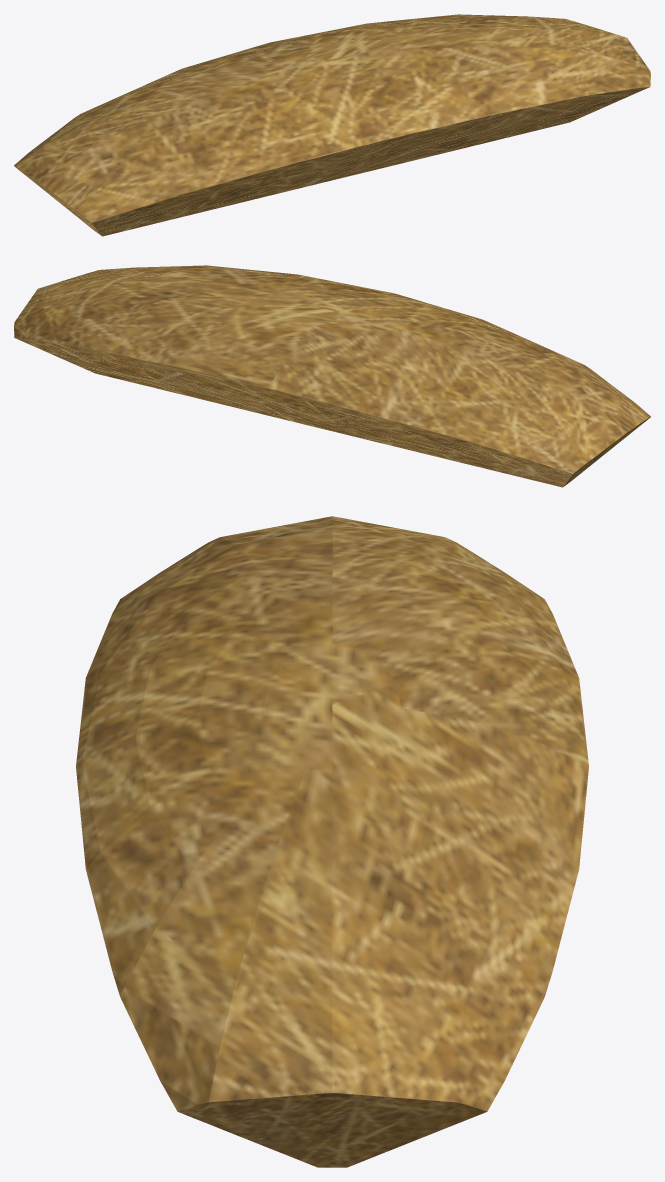
Rendered from Feeding Trough Food.fbx.
3 views of the same model, one above another, from view 1: azimuth 30°, elevation 25°; view 2: azimuth 150°, elevation 25°; view 3: azimuth 270°, elevation 25° (orthographic). The views are drawn at different scales.
Visible parts, largest first — view 1: Sphere; view 2: Sphere; view 3: Sphere.
Part boxes in pixels (x1,y1,x2,y2): Sphere: [14, 14, 650, 236]; Sphere: [14, 265, 650, 487]; Sphere: [76, 516, 588, 1167].
Bounding box in the file's own units: 80.15 × 15.26 × 30.21.
1 material, 1 textured.
